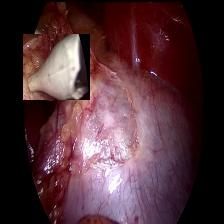Hook: (22, 33, 89, 99)
